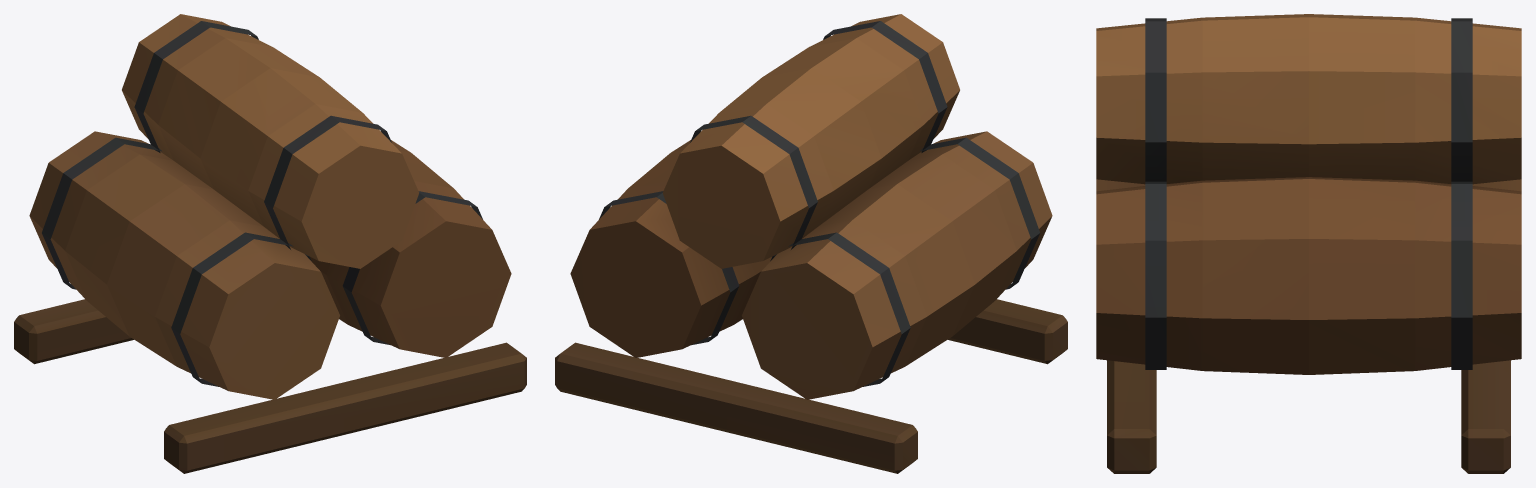
Rendered from rb_rack-DXOwVdHP.glb.
3 renders of one model, left to right at view 1: azimuth 30°, elevation 25°; view 2: azimuth 150°, elevation 25°; view 3: azimuth 270°, elevation 25°, orthographic. The views are drawn at different scales.
Size of the model in its own units: 1.34 by 1.12 by 1.2.
